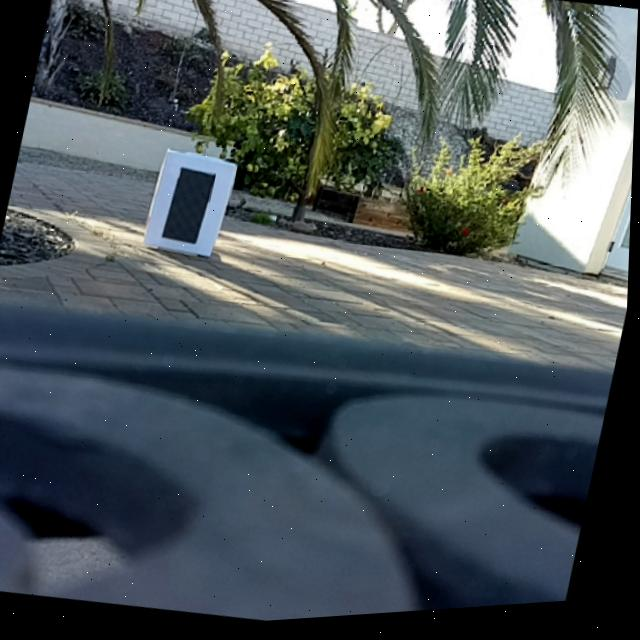led: (160, 163, 220, 251)
